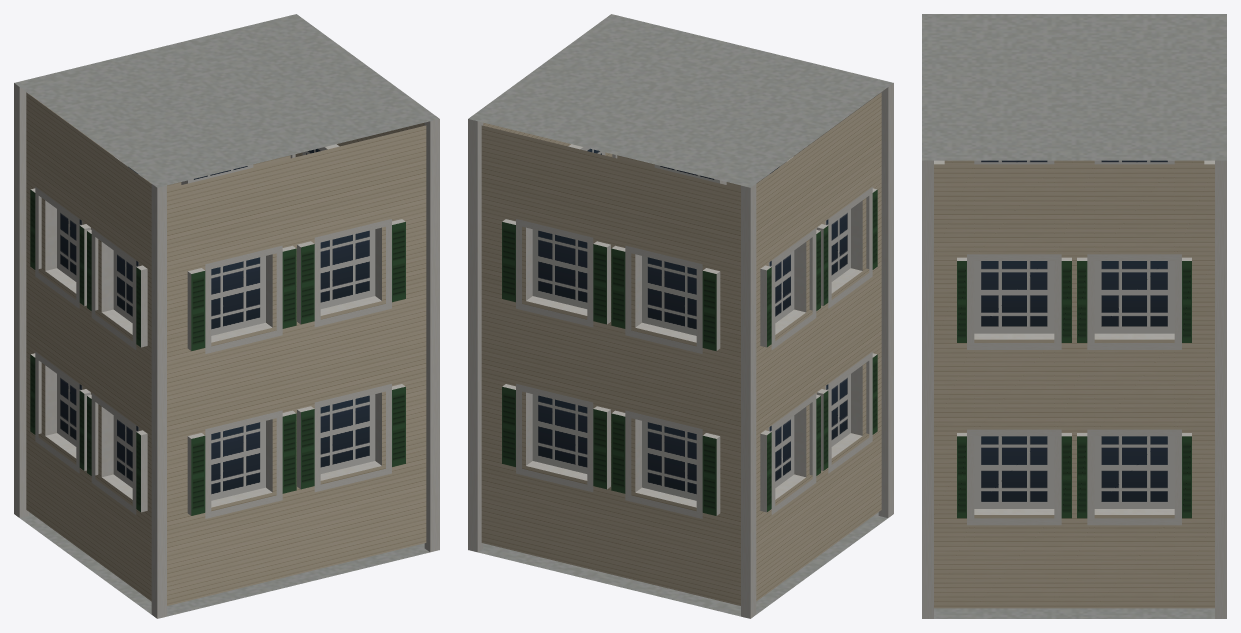
File: bldg-row-clapboard-b.glb
3 views of the same model, side by side, from view 1: azimuth 30°, elevation 25°; view 2: azimuth 150°, elevation 25°; view 3: azimuth 270°, elevation 25° (orthographic). The views are drawn at different scales.
Visible parts, largest first — view 1: bldg-row-clapboard-b; view 2: bldg-row-clapboard-b; view 3: bldg-row-clapboard-b.
Part boxes in pixels (bbox=[...]): bldg-row-clapboard-b: bbox=[14, 14, 439, 618]; bldg-row-clapboard-b: bbox=[468, 14, 893, 618]; bldg-row-clapboard-b: bbox=[922, 14, 1226, 618].
Bounding box in the file's own units: 1.3 × 1.9 × 1.14.
Materials: 5 (5 with a texture image).
